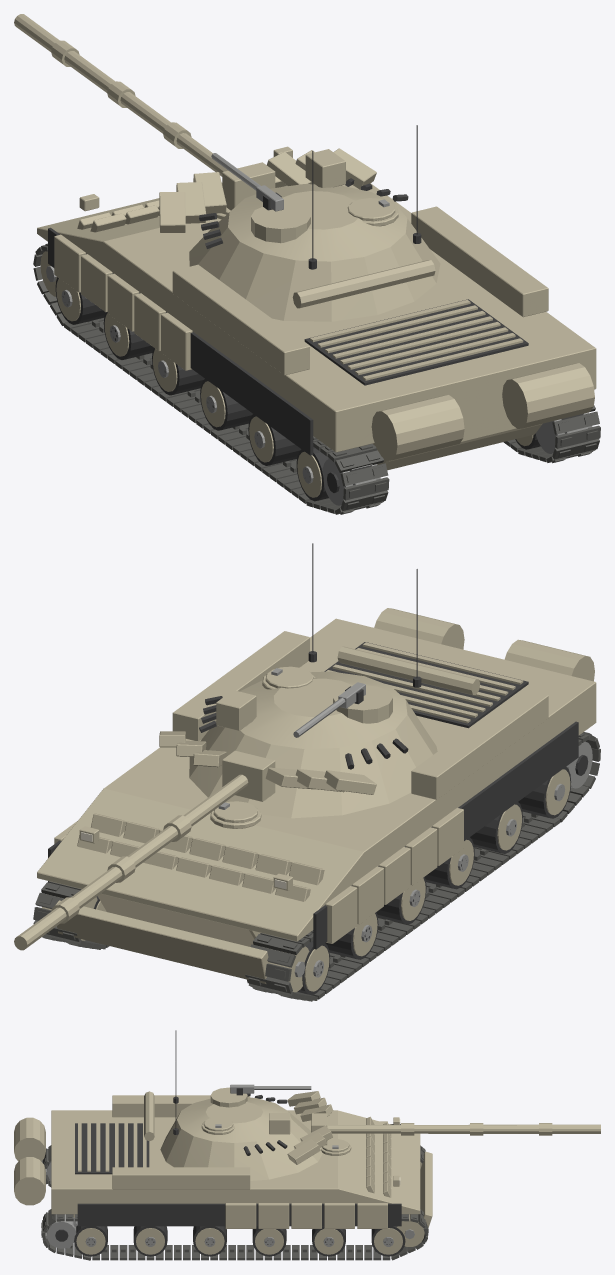
The model's file is rus_mbt_80.glb.
The picture shows the model from 3 angles, top to bottom: view 1: azimuth 30°, elevation 25°; view 2: azimuth 150°, elevation 25°; view 3: azimuth 270°, elevation 25°; orthographic projection. The views are drawn at different scales.
Parts seen in each view (by area): view 1: body, turret, barrel; view 2: body, turret, barrel; view 3: body, turret, barrel.
Boxes of the visible parts, bbox=[...] form: body: bbox=[33, 146, 600, 514]; turret: bbox=[159, 125, 440, 321]; barrel: bbox=[14, 14, 275, 210]; body: bbox=[33, 608, 600, 1001]; turret: bbox=[159, 543, 480, 818]; barrel: bbox=[14, 750, 275, 950]; body: bbox=[14, 1095, 432, 1260]; turret: bbox=[144, 1030, 333, 1180]; barrel: bbox=[311, 1113, 600, 1145].
Bounding box in the file's own units: 3.74 × 3.67 × 11.05.
